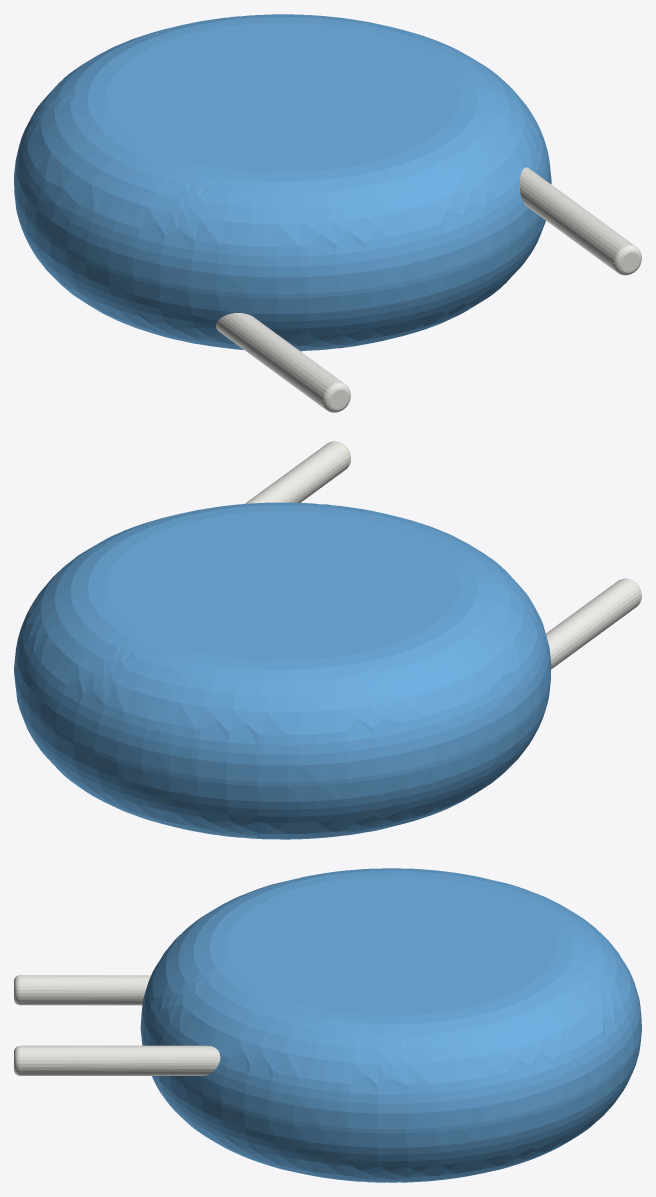
Rendered from RV_Disc_D12mm_W4.2mm_P7.5mm.glb.
3 views of the same model, one above another, from view 1: azimuth 30°, elevation 25°; view 2: azimuth 150°, elevation 25°; view 3: azimuth 270°, elevation 25° (orthographic). The views are drawn at different scales.
Parts seen in each view (by area): view 1: Shape_IndexedFaceSet.001, Shape_IndexedFaceSet.003, Shape_IndexedFaceSet.002, Shape_IndexedFaceSet.006, Shape_IndexedFaceSet.004, Shape_IndexedFaceSet; view 2: Shape_IndexedFaceSet.001, Shape_IndexedFaceSet.003, Shape_IndexedFaceSet.002, Shape_IndexedFaceSet.006, Shape_IndexedFaceSet.004, Shape_IndexedFaceSet; view 3: Shape_IndexedFaceSet.001, Shape_IndexedFaceSet.003, Shape_IndexedFaceSet.002, Shape_IndexedFaceSet.004, Shape_IndexedFaceSet.006, Shape_IndexedFaceSet.
Part boxes in pixels (left/top/right/bottom): Shape_IndexedFaceSet.001: left=14, top=14, right=551, bottom=294; Shape_IndexedFaceSet.003: left=105, top=23, right=459, bottom=172; Shape_IndexedFaceSet.002: left=14, top=193, right=545, bottom=351; Shape_IndexedFaceSet.006: left=216, top=313, right=343, bottom=408; Shape_IndexedFaceSet.004: left=520, top=167, right=634, bottom=271; Shape_IndexedFaceSet: left=14, top=180, right=551, bottom=298; Shape_IndexedFaceSet.001: left=14, top=502, right=551, bottom=782; Shape_IndexedFaceSet.003: left=106, top=511, right=459, bottom=660; Shape_IndexedFaceSet.002: left=15, top=682, right=550, bottom=839; Shape_IndexedFaceSet.006: left=546, top=579, right=640, bottom=669; Shape_IndexedFaceSet.004: left=245, top=442, right=350, bottom=503; Shape_IndexedFaceSet: left=14, top=665, right=551, bottom=786; Shape_IndexedFaceSet.001: left=140, top=868, right=641, bottom=1129; Shape_IndexedFaceSet.003: left=226, top=876, right=556, bottom=1015; Shape_IndexedFaceSet.002: left=141, top=1031, right=641, bottom=1182; Shape_IndexedFaceSet.004: left=20, top=1045, right=220, bottom=1075; Shape_IndexedFaceSet.006: left=20, top=975, right=150, bottom=1005; Shape_IndexedFaceSet: left=140, top=1027, right=641, bottom=1133.
Bounding box in the file's own units: 4.72 × 1.65 × 5.92.
